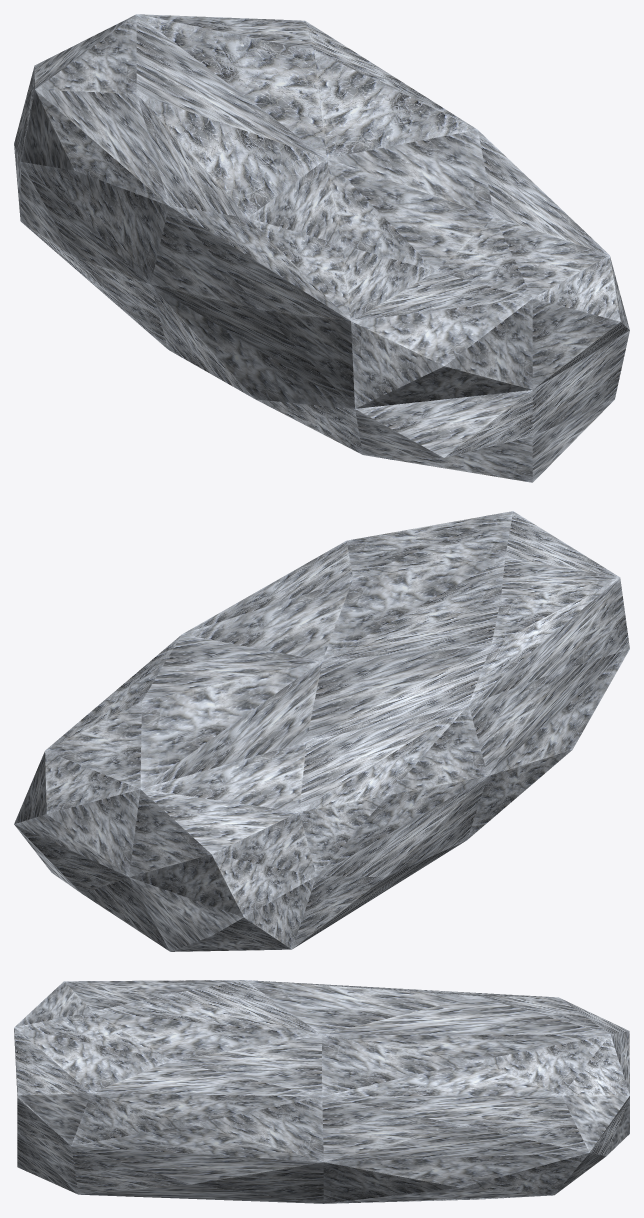
The model's file is BumpyPlatform.dae.
The picture shows the model from 3 angles, top to bottom: view 1: azimuth 30°, elevation 25°; view 2: azimuth 150°, elevation 25°; view 3: azimuth 270°, elevation 25°; orthographic projection. The views are drawn at different scales.
Parts seen in each view (by area): view 1: Cube; view 2: Cube; view 3: Cube.
Boxes of the visible parts, x1=… form: Cube: x1=14, y1=14, x2=629, y2=482; Cube: x1=14, y1=511, x2=629, y2=951; Cube: x1=14, y1=980, x2=629, y2=1203.
Size of the model in its own units: 0.5012 by 1.01 by 0.2514.
